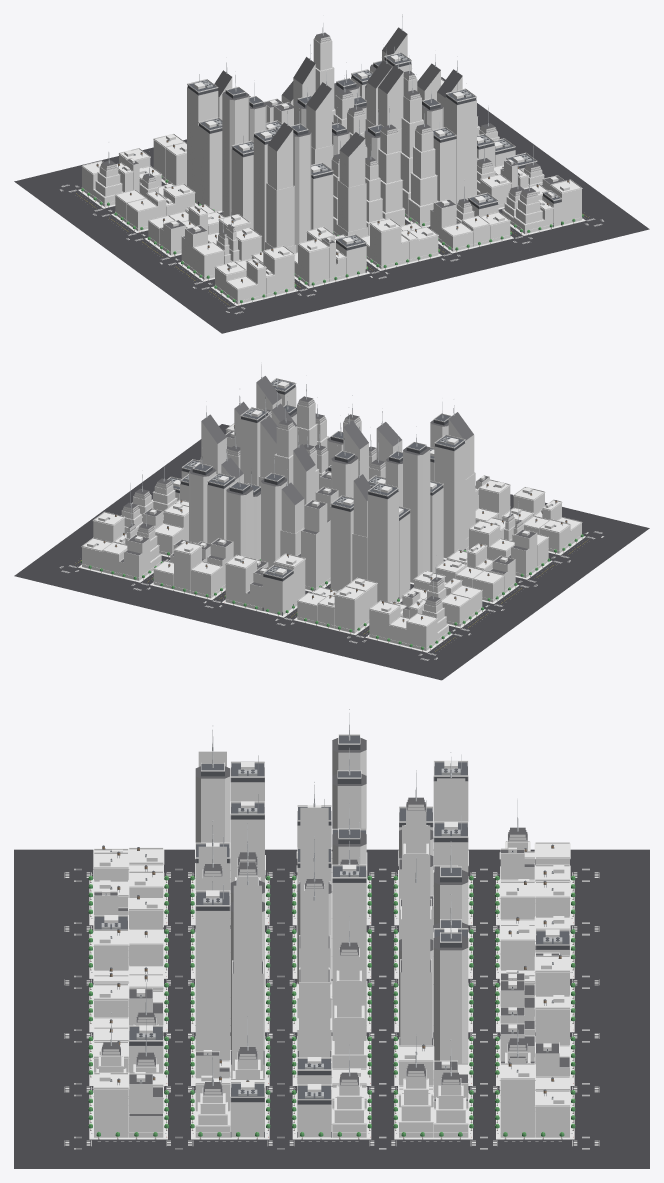
File: city.glb
The picture shows the model from 3 angles, top to bottom: view 1: azimuth 30°, elevation 25°; view 2: azimuth 150°, elevation 25°; view 3: azimuth 270°, elevation 25°; orthographic projection. The views are drawn at different scales.
Visible parts, largest first — view 1: City_Asphalt_Ground, Bld_042_angled, Bld_074_angled, Bld_109_prismatic, Bld_105_art_deco, Bld_049_chamfered, Bld_054_prismatic, Bld_044_chamfered, Bld_055_prismatic, Bld_078_art_deco, Bld_080_angled, Bld_048_prismatic (+49 smaller); view 2: City_Asphalt_Ground, Bld_055_prismatic, Bld_049_chamfered, Bld_043_prismatic, Bld_087_stepped_terrace, Bld_059_prismatic, Bld_118_chamfered, Bld_091_chamfered, Bld_057_angled, Bld_114_prismatic, Bld_122_chamfered, Bld_089_angled (+55 smaller); view 3: City_Asphalt_Ground, City_Sidewalks, City_Trees, Bld_109_prismatic, Bld_110_angled, Bld_121_angled, Bld_115_angled, Bld_122_chamfered, Bld_114_prismatic, Bld_116_art_deco, City_Road_Markings, Bld_044_chamfered (+53 smaller).
Part boxes in pixels (x1,y1,x2,y2): City_Asphalt_Ground: [14, 77, 649, 333]; Bld_042_angled: [265, 109, 296, 252]; Bld_074_angled: [336, 119, 367, 237]; Bld_109_prismatic: [445, 83, 476, 207]; Bld_105_art_deco: [408, 110, 438, 226]; Bld_049_chamfered: [222, 71, 249, 216]; Bld_054_prismatic: [198, 117, 222, 211]; Bld_044_chamfered: [290, 108, 311, 252]; Bld_055_prismatic: [187, 74, 218, 204]; Bld_078_art_deco: [378, 108, 405, 225]; Bld_080_angled: [306, 69, 333, 170]; Bld_048_prismatic: [231, 136, 253, 229]; City_Asphalt_Ground: [14, 424, 649, 680]; Bld_055_prismatic: [367, 482, 398, 602]; Bld_049_chamfered: [403, 426, 430, 582]; Bld_043_prismatic: [434, 434, 465, 558]; Bld_087_stepped_terrace: [297, 500, 327, 590]; Bld_059_prismatic: [330, 495, 353, 590]; Bld_118_chamfered: [226, 466, 253, 558]; Bld_091_chamfered: [261, 457, 287, 567]; Bld_057_angled: [352, 461, 371, 580]; Bld_114_prismatic: [240, 407, 268, 485]; Bld_122_chamfered: [189, 447, 216, 543]; Bld_089_angled: [280, 469, 304, 556]; City_Asphalt_Ground: [14, 849, 649, 1168]; City_Sidewalks: [89, 878, 574, 1139]; City_Trees: [88, 875, 575, 1138]; Bld_109_prismatic: [195, 884, 230, 1059]; Bld_110_angled: [230, 859, 265, 1078]; Bld_121_angled: [398, 857, 431, 1078]; Bld_115_angled: [297, 875, 331, 1078]; Bld_122_chamfered: [433, 907, 468, 1063]; Bld_114_prismatic: [332, 857, 366, 1040]; Bld_116_art_deco: [331, 916, 367, 1068]; City_Road_Markings: [64, 868, 599, 1149]; Bld_044_chamfered: [195, 742, 230, 847].
Size of the model in its own units: 721 by 266 by 607.
